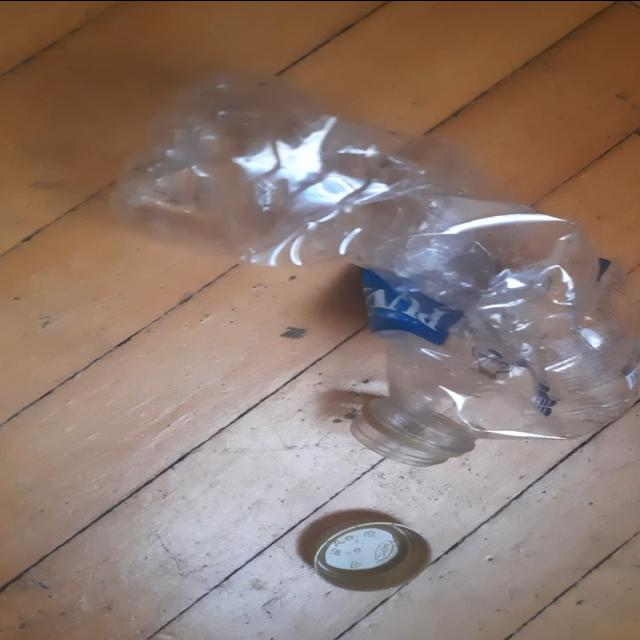Plastic: (108, 73, 638, 464)
